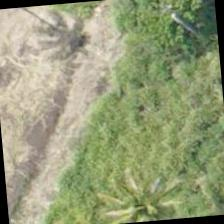Kelapa_Sawit: (99, 159, 195, 223)
